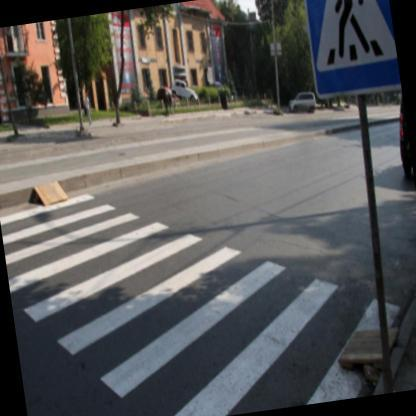obstructed_road_sign: (304, 0, 400, 97)
